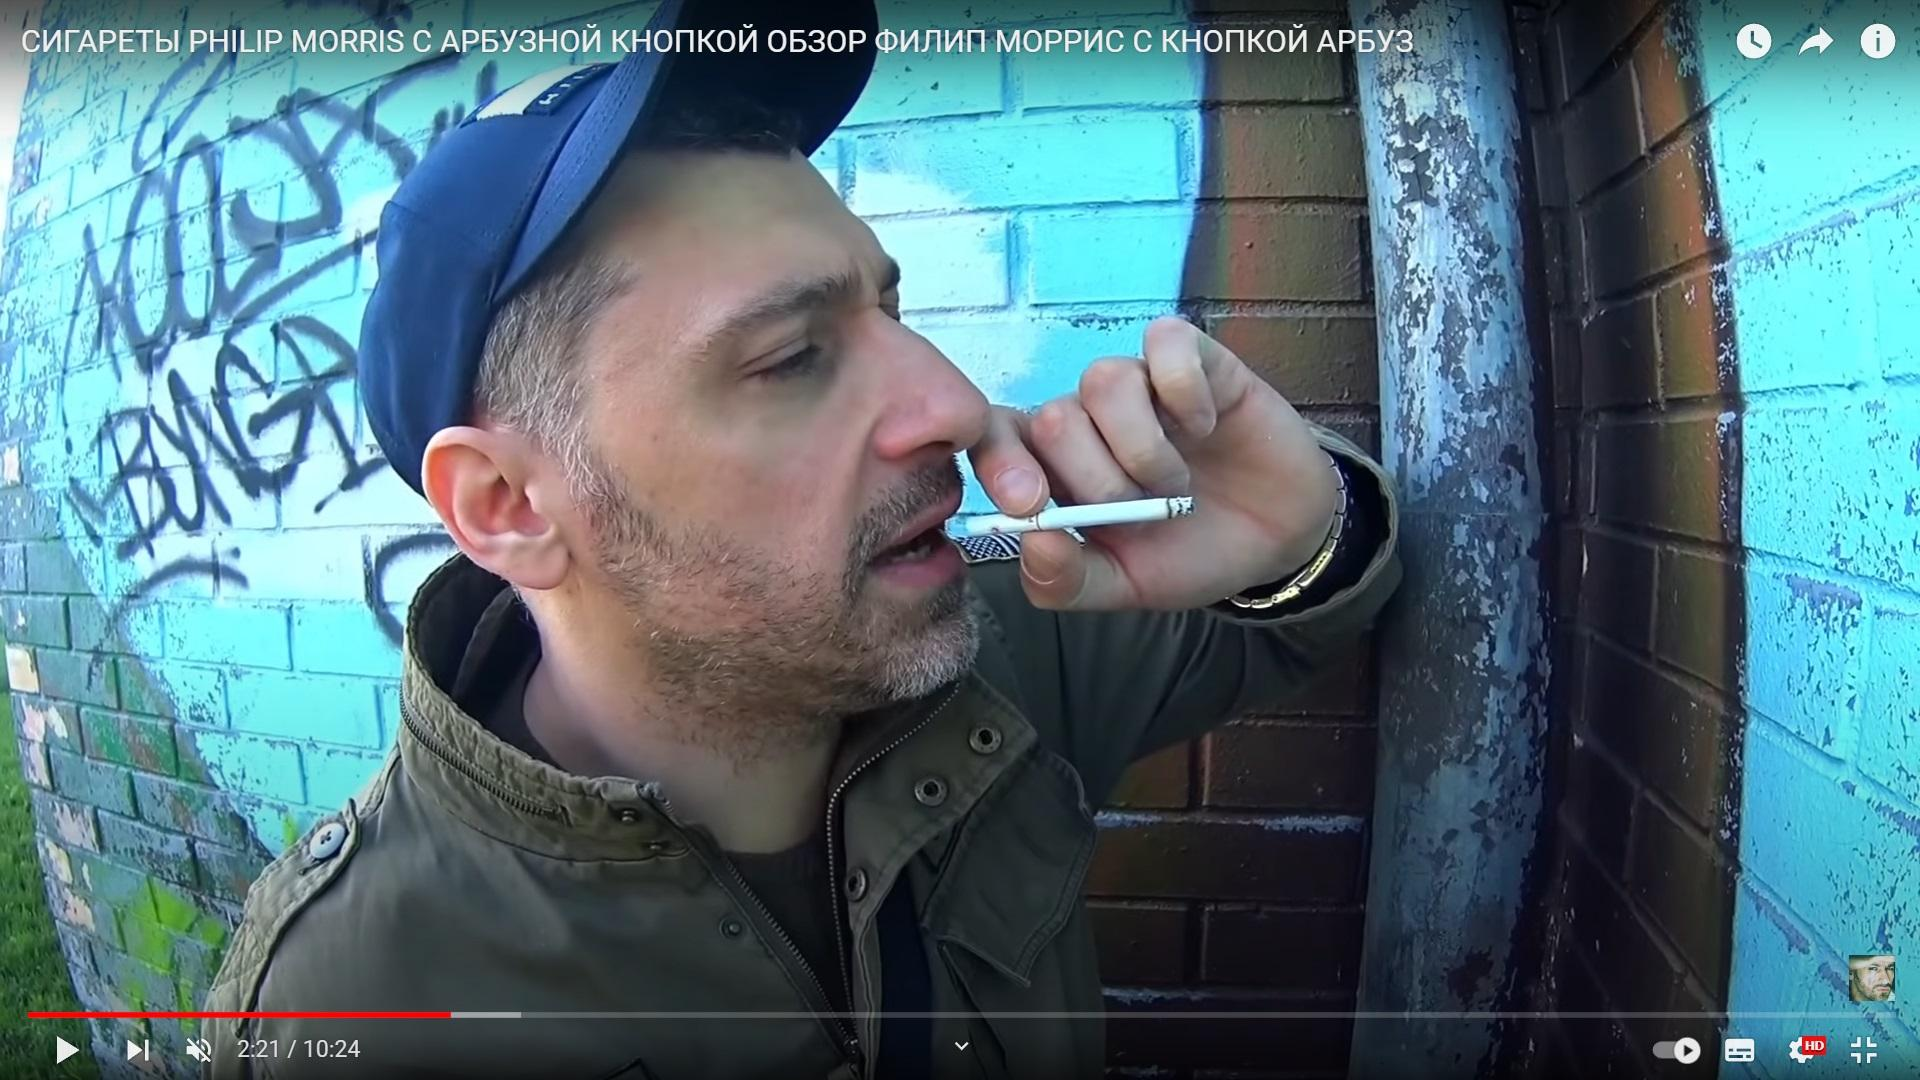cigarette: (964, 496, 1199, 537)
